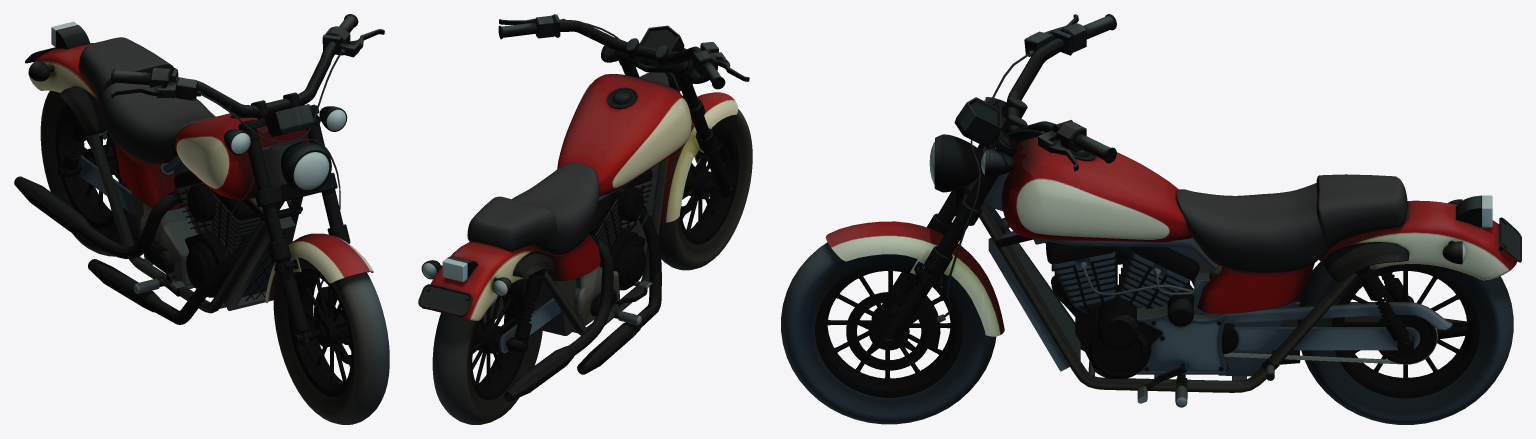
The model's file is motorcycle.glb.
3 renders of one model, left to right at view 1: azimuth 30°, elevation 25°; view 2: azimuth 150°, elevation 25°; view 3: azimuth 270°, elevation 25°, orthographic. The views are drawn at different scales.
Parts seen in each view (by area): view 1: motorcycle.1_1; view 2: motorcycle.1_1; view 3: motorcycle.1_1.
Part boxes in pixels (x1,y1,x2,y2): motorcycle.1_1: [14, 14, 389, 424]; motorcycle.1_1: [418, 14, 752, 424]; motorcycle.1_1: [781, 14, 1521, 424].
Size of the model in its own units: 0.3667 by 0.3982 by 0.7697.
1 material, 1 textured.
